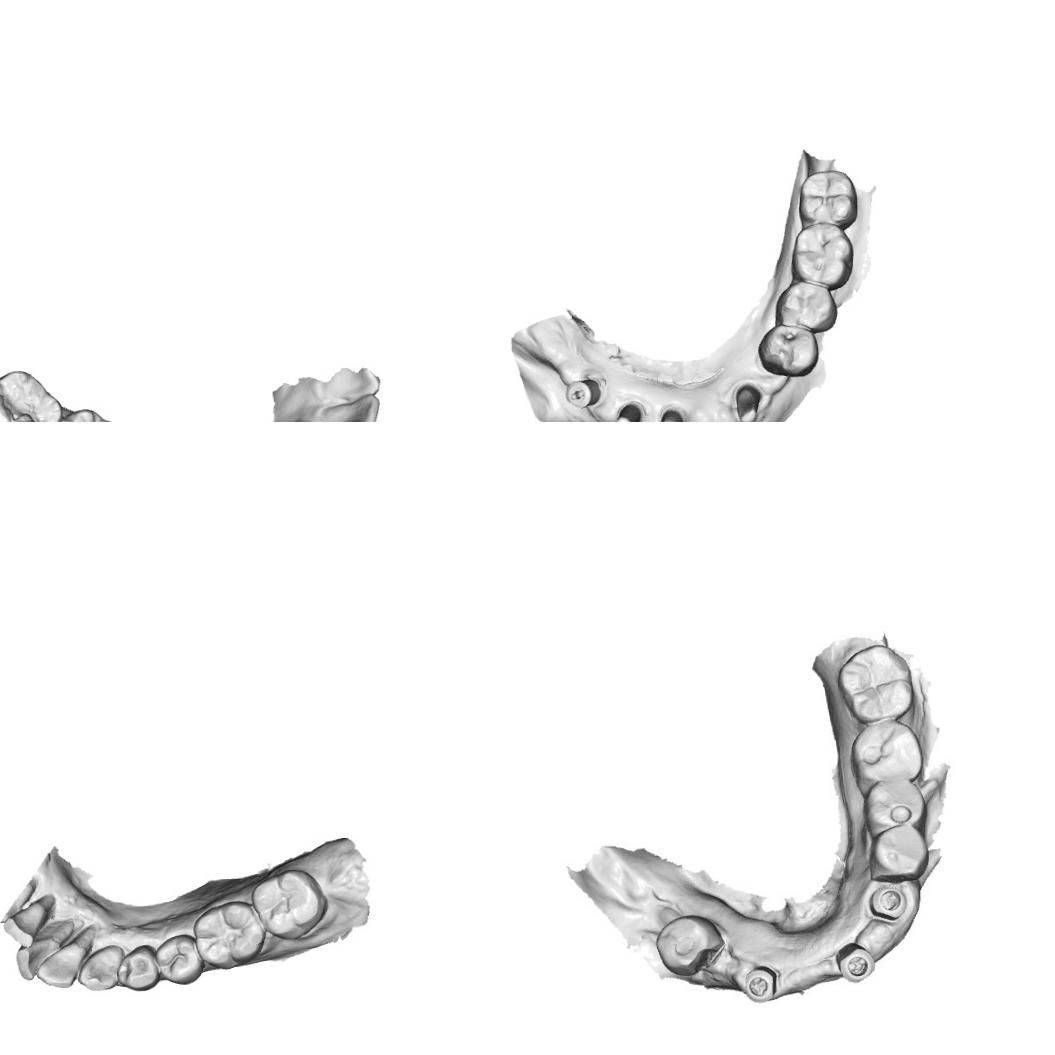abutment: (728, 377, 766, 422), (653, 401, 688, 422), (611, 400, 644, 422)
canine: (76, 944, 124, 992)
implant: (834, 940, 876, 984), (868, 883, 907, 921), (743, 963, 779, 1004)
implant_minus: (563, 377, 601, 410)
incisor: (1, 900, 48, 948), (34, 947, 81, 990), (13, 938, 57, 982), (322, 393, 383, 422)
molar: (835, 642, 915, 726), (848, 718, 924, 798), (248, 867, 328, 942), (192, 899, 268, 970), (788, 219, 857, 290), (796, 168, 860, 228), (0, 365, 62, 422)
premolar: (654, 914, 727, 978), (867, 824, 930, 886), (863, 779, 928, 839), (756, 321, 822, 379), (772, 279, 838, 335), (154, 932, 206, 986), (116, 943, 159, 992)
